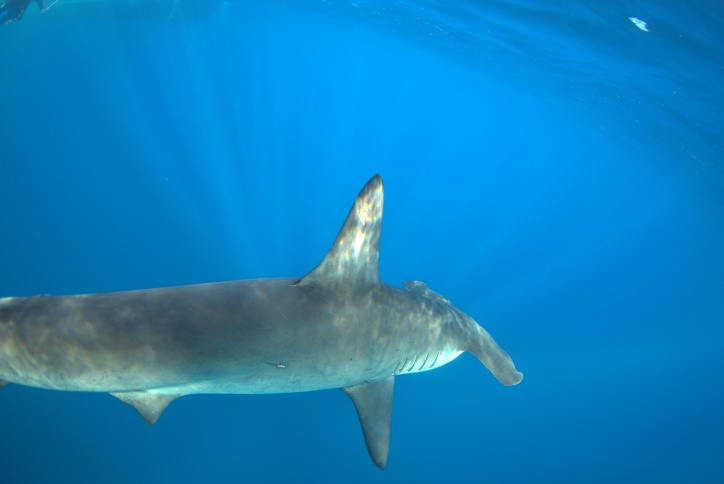Hammer: (1, 165, 577, 479)
